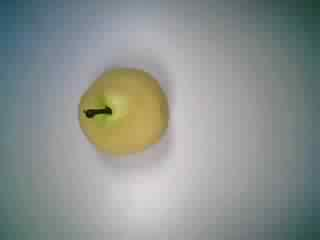pear: (69, 55, 174, 163)
